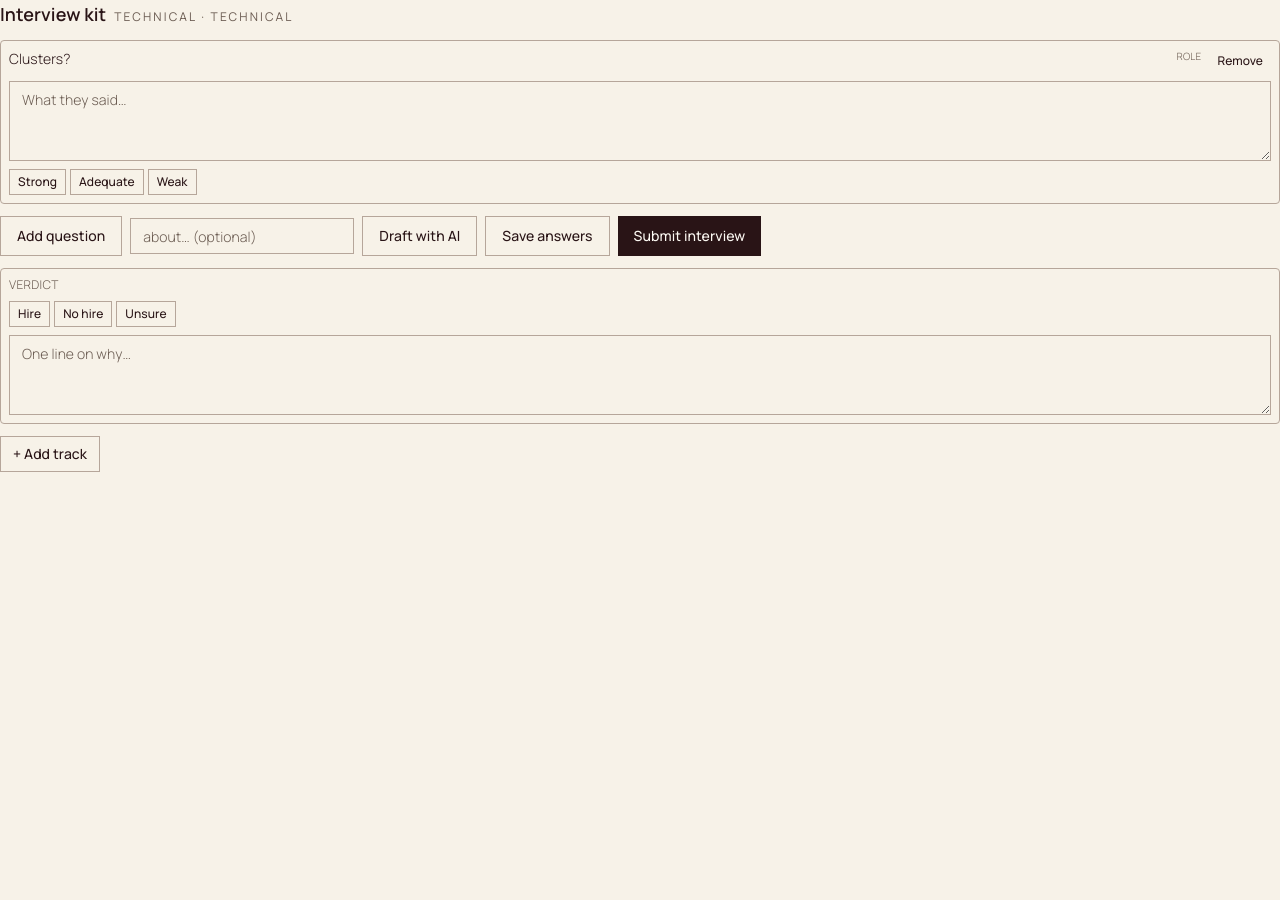
Test: InterviewKitSection — kinds › names the kind in the add-track picker, where the same choice is made
Click the button "+ Add track".
click(50, 454)  # box [0,436,100,472]
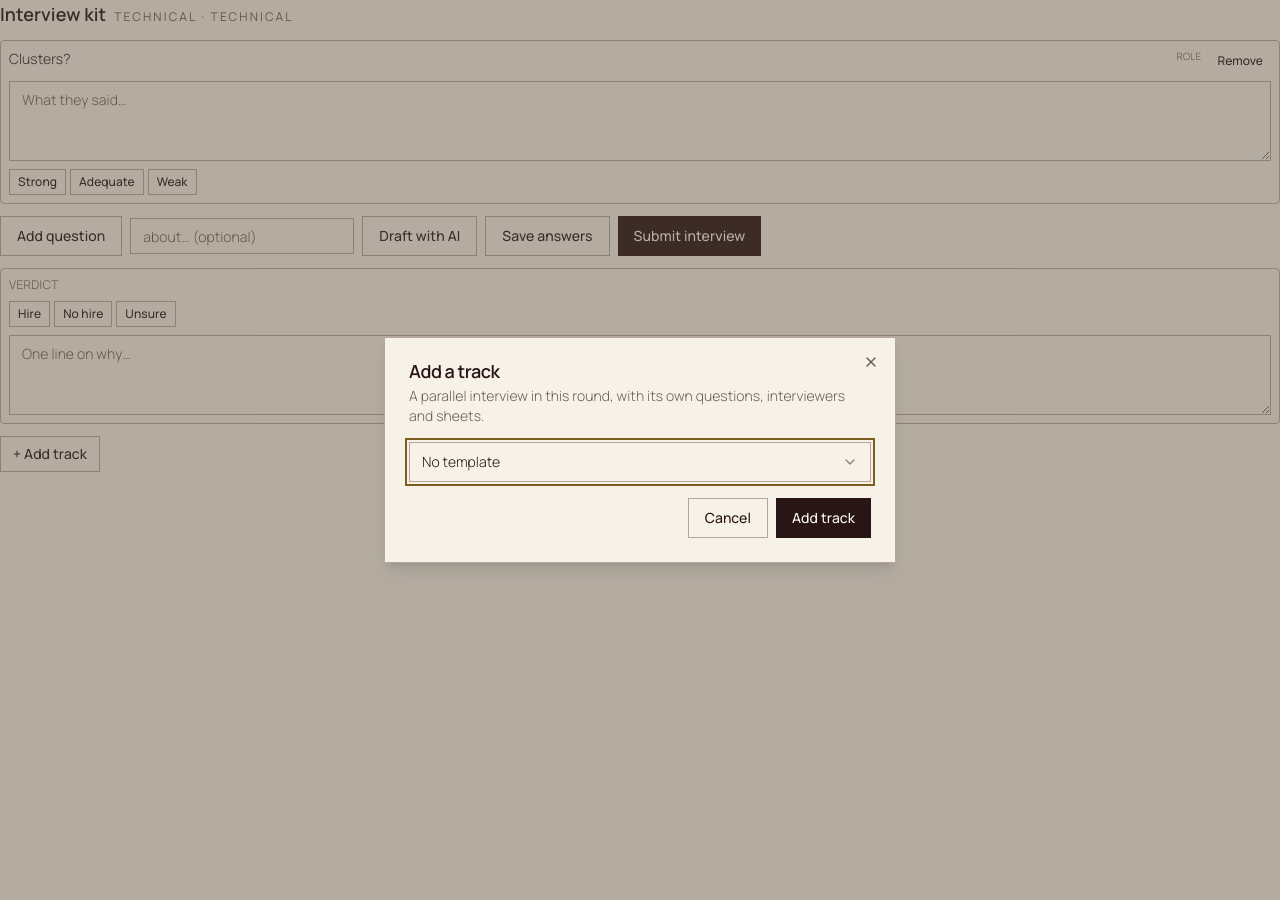
Click the dropdown named "track template".
click(461, 462)  # box [409,442,871,482]
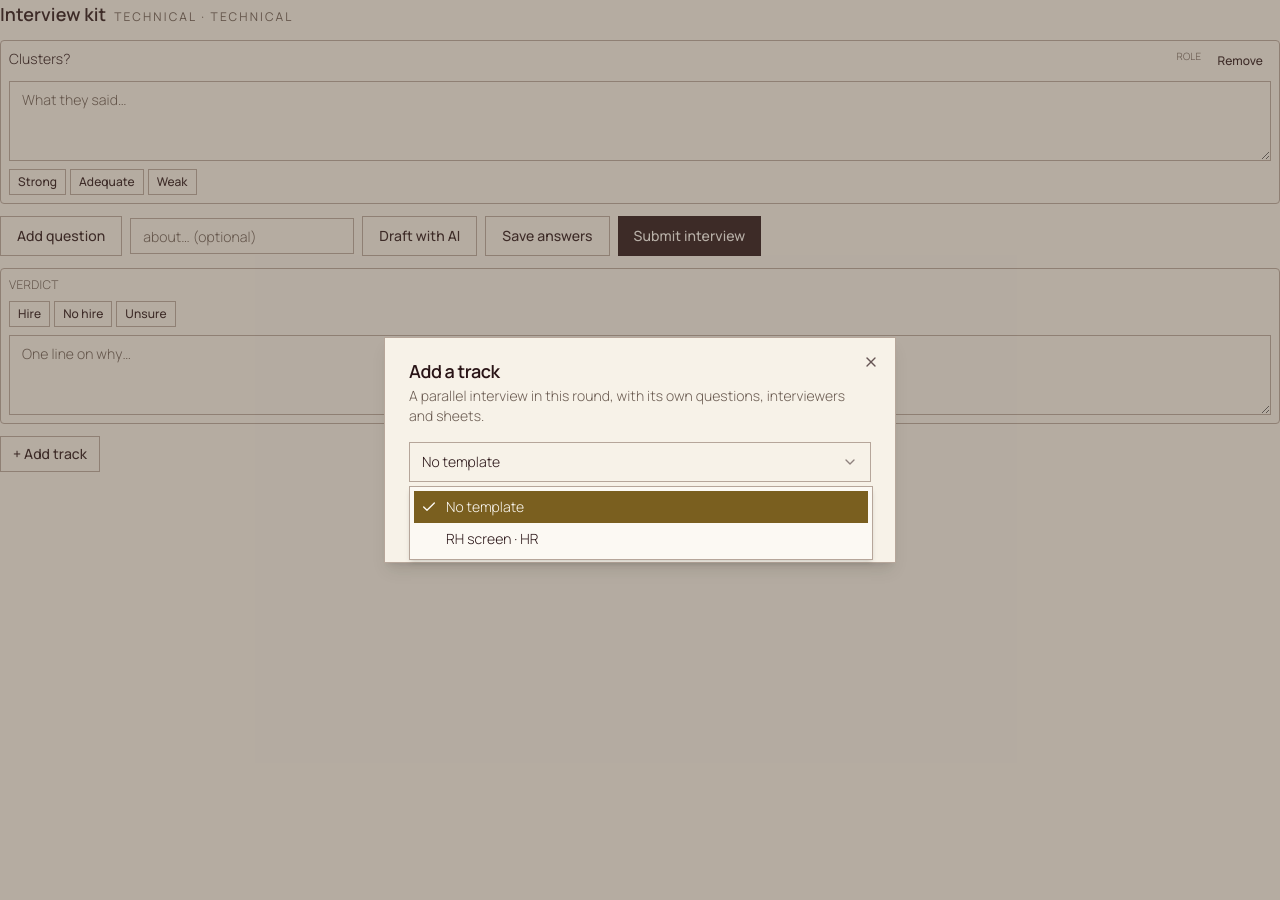
Now the option "RH screen · HR" is shown, box [446,529,539,548]
